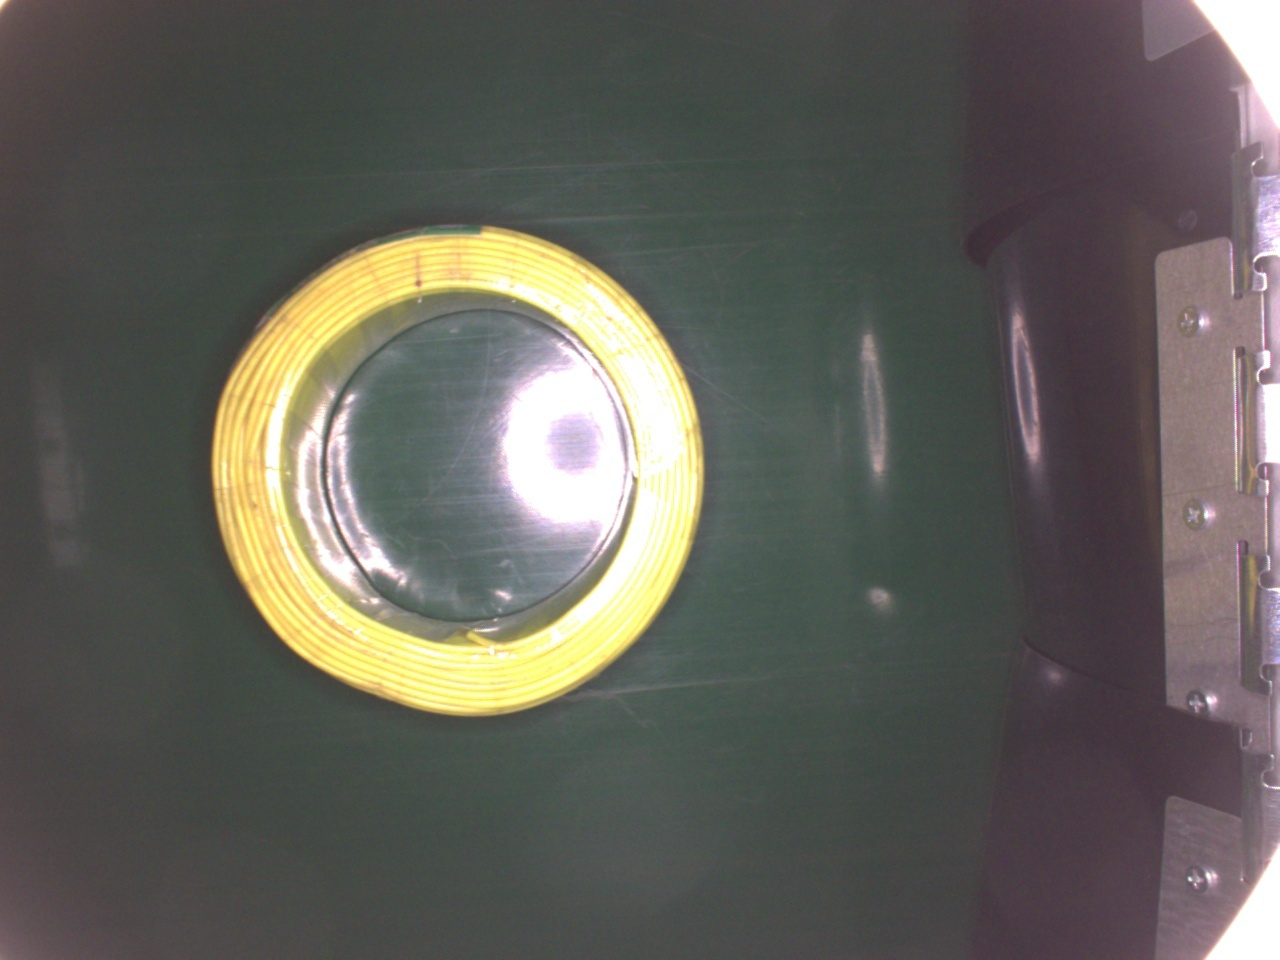yellow: (208, 219, 708, 718)
